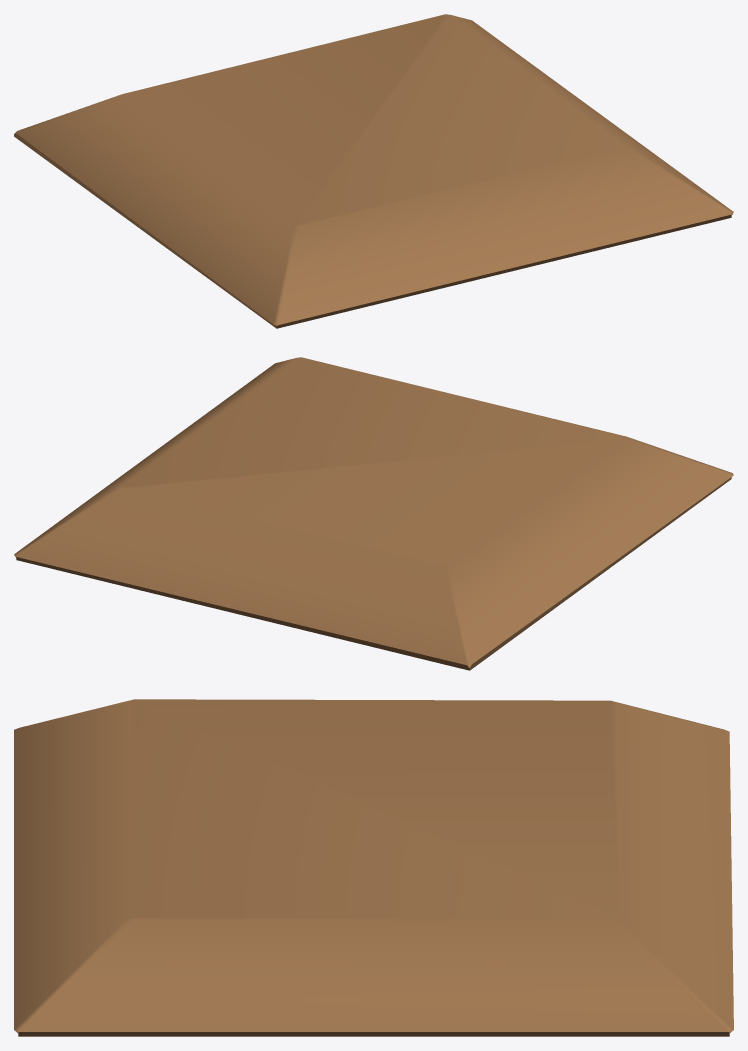
File: Platform1.fbx
3 views of the same model, one above another, from view 1: azimuth 30°, elevation 25°; view 2: azimuth 150°, elevation 25°; view 3: azimuth 270°, elevation 25° (orthographic). The views are drawn at different scales.
Parts seen in each view (by area): view 1: pCube1; view 2: pCube1; view 3: pCube1.
Part boxes in pixels (bbox=[...]): pCube1: bbox=[14, 14, 733, 328]; pCube1: bbox=[14, 357, 733, 670]; pCube1: bbox=[14, 699, 733, 1036].
Size of the model in its own units: 4.73 by 0.5574 by 4.73.
